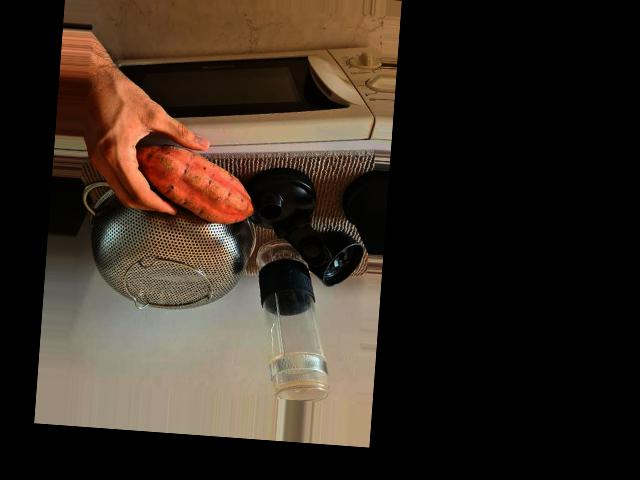sweet_potato: (132, 144, 258, 224)
